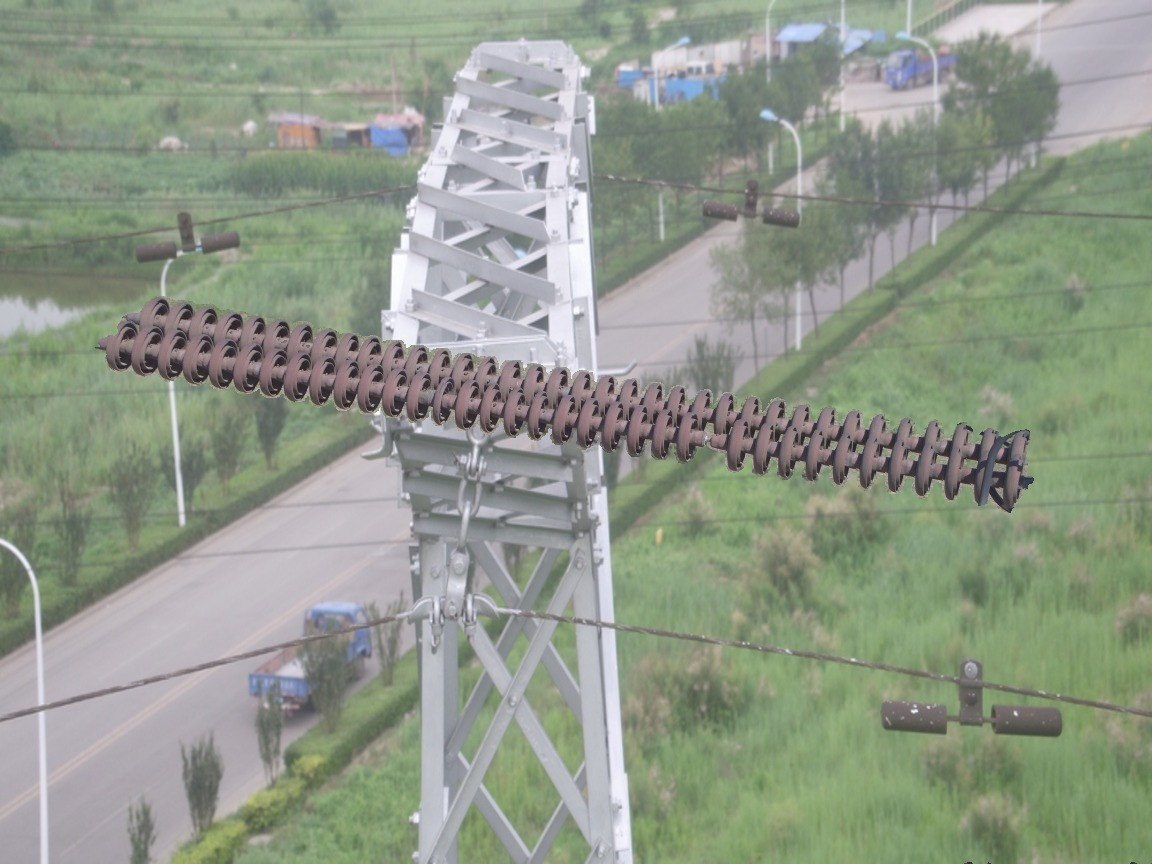defect: (666, 407, 752, 472)
